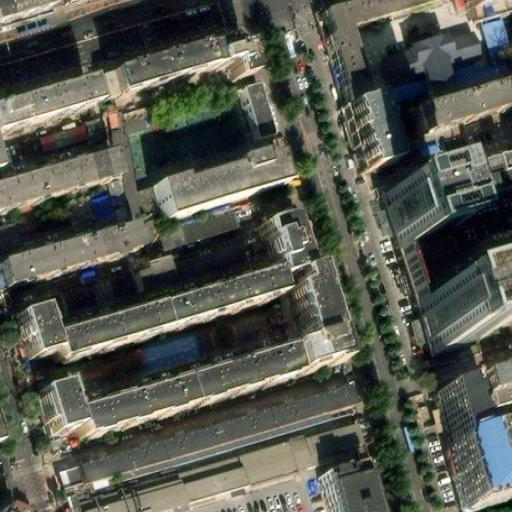building: (64, 384, 353, 490), (147, 224, 296, 338), (332, 0, 451, 96), (144, 154, 278, 229), (33, 388, 182, 446), (11, 311, 156, 370), (230, 416, 360, 479), (175, 356, 290, 413), (0, 163, 104, 219), (411, 89, 512, 145), (392, 25, 484, 86), (391, 60, 500, 107), (283, 277, 333, 378), (107, 38, 208, 88), (426, 149, 512, 203), (442, 428, 498, 509), (383, 174, 443, 247), (78, 471, 179, 512), (0, 88, 84, 136), (414, 285, 472, 350), (400, 235, 457, 298), (342, 99, 390, 171), (171, 453, 238, 497), (136, 333, 203, 374), (139, 251, 194, 291), (34, 120, 91, 155), (484, 16, 512, 78), (428, 385, 460, 438), (204, 38, 249, 74), (249, 83, 277, 133), (486, 291, 512, 330), (483, 359, 512, 391), (0, 495, 31, 511), (0, 400, 11, 440), (490, 387, 509, 405)
